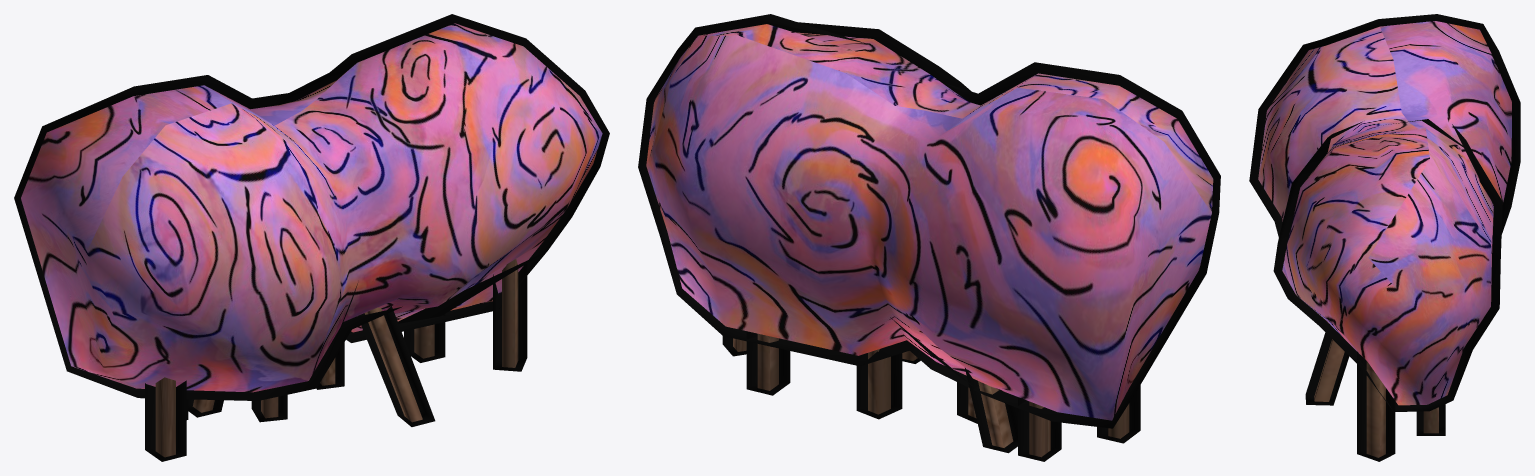
Rendered from entity15826n.gltf.
The picture shows the model from 3 angles, left to right: view 1: azimuth 30°, elevation 25°; view 2: azimuth 150°, elevation 25°; view 3: azimuth 270°, elevation 25°; orthographic projection. The views are drawn at different scales.
Visible parts, largest first — view 1: node_Bush_03 (7); view 2: node_Bush_03 (7); view 3: node_Bush_03 (7).
Part boxes in pixels (<box>): node_Bush_03 (7): <box>14,14,609,461</box>; node_Bush_03 (7): <box>638,14,1220,461</box>; node_Bush_03 (7): <box>1249,14,1520,461</box>.
Size of what is drawn, in the model's own units: 2.73 by 1.68 by 1.4.
